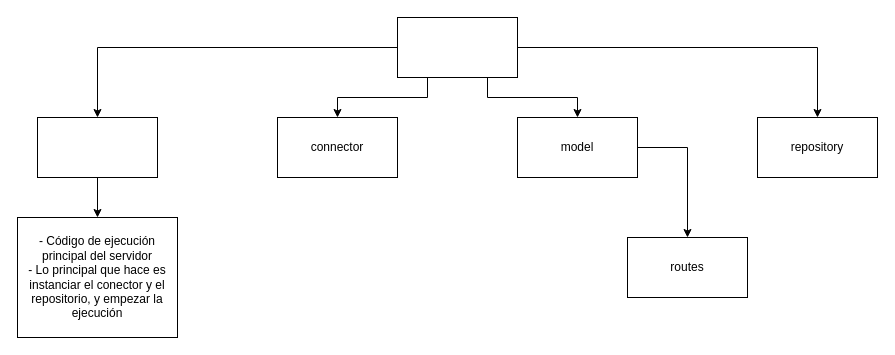
Some shapes in this 895 by 355 pixel diagram are drawn without their labels. Each missing label, with the box of its shape:
Backend: (396, 16, 518, 78)
main: (36, 116, 158, 178)
